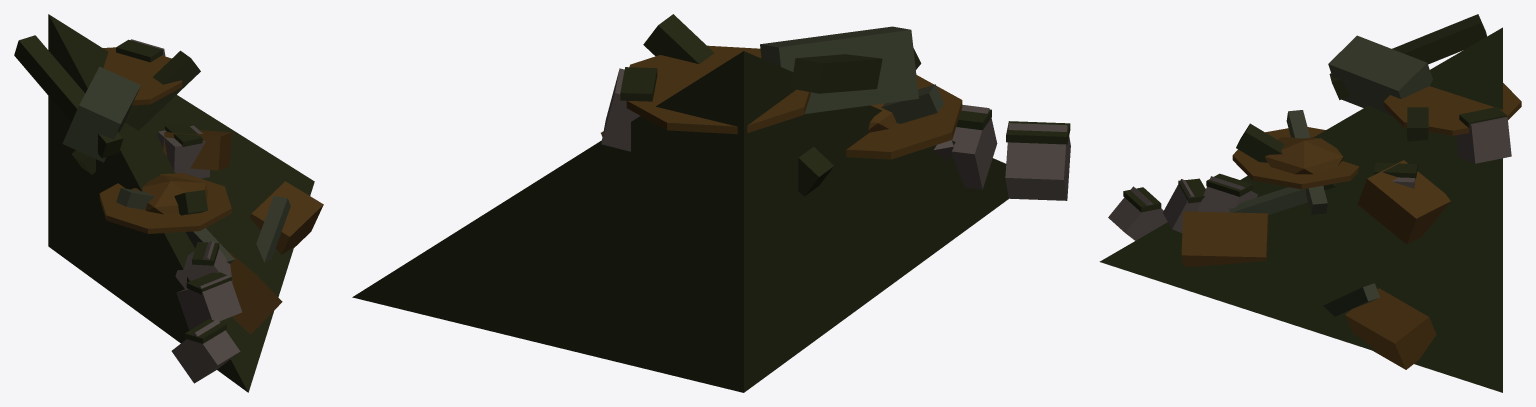
The model's file is SM_PilaZombi_RemateDer_Altura2_s2_LOD0.fbx.
The picture shows the model from 3 angles, left to right: view 1: azimuth 30°, elevation 25°; view 2: azimuth 150°, elevation 25°; view 3: azimuth 270°, elevation 25°; orthographic projection. The views are drawn at different scales.
Visible parts, largest first — view 1: SM_pila_zombis_v11_LOD0; view 2: SM_pila_zombis_v11_LOD0; view 3: SM_pila_zombis_v11_LOD0.
Part boxes in pixels (x1,y1,x2,y2): SM_pila_zombis_v11_LOD0: (14, 14, 323, 392); SM_pila_zombis_v11_LOD0: (352, 14, 1070, 392); SM_pila_zombis_v11_LOD0: (1099, 14, 1521, 392).
Size of the model in its own units: 1.94 by 1.37 by 2.2.
